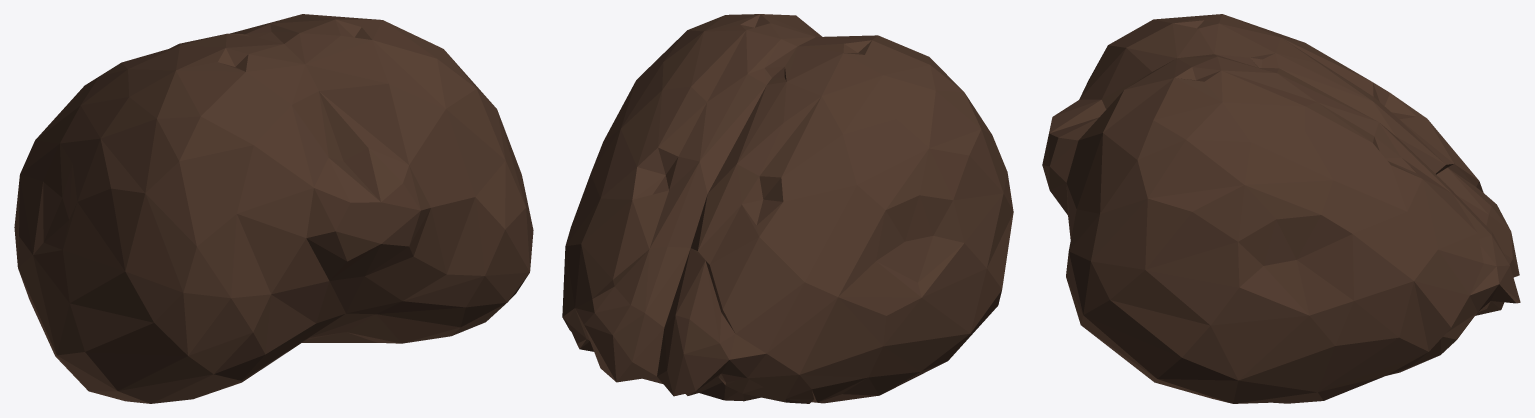
The model's file is head_only.dae.
The picture shows the model from 3 angles, left to right: view 1: azimuth 30°, elevation 25°; view 2: azimuth 150°, elevation 25°; view 3: azimuth 270°, elevation 25°; orthographic projection. The views are drawn at different scales.
Parts seen in each view (by area): view 1: ant-head; view 2: ant-head; view 3: ant-head.
Boxes of the visible parts, x1,y1,x2,y2 form: ant-head: (14, 14, 533, 403); ant-head: (562, 14, 1013, 403); ant-head: (1042, 14, 1520, 403).
Size of the model in its own units: 5.03 by 5.48 by 3.78.
